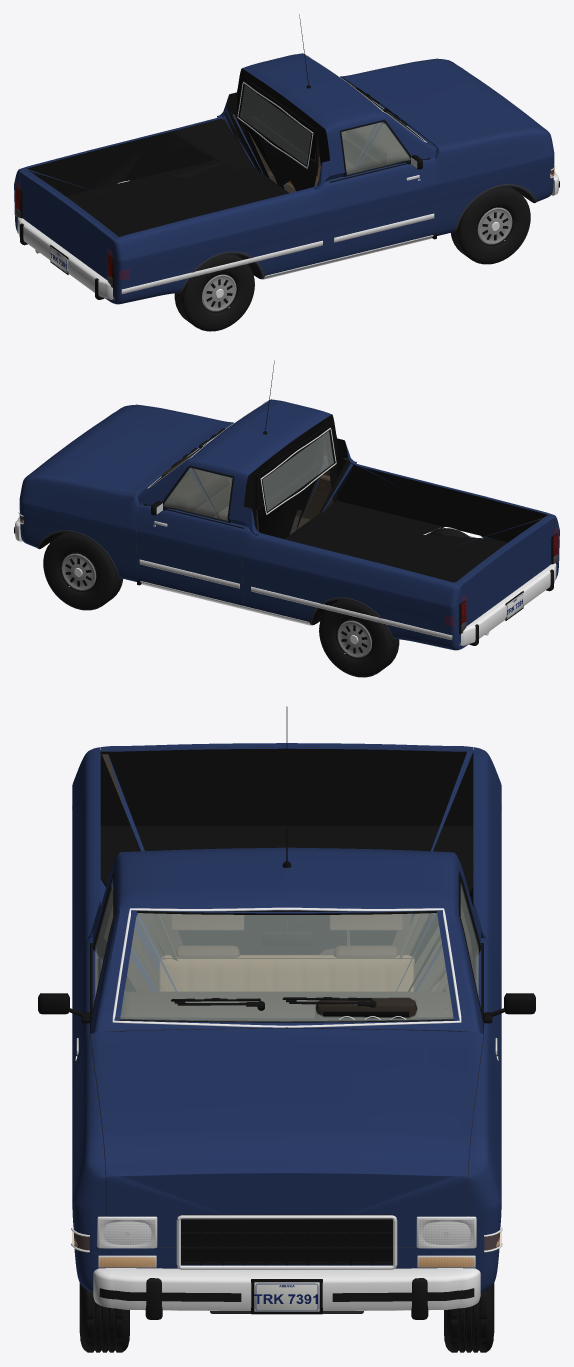
The model's file is pickup87.glb.
3 views of the same model, one above another, from view 1: azimuth 30°, elevation 25°; view 2: azimuth 150°, elevation 25°; view 3: azimuth 270°, elevation 25° (orthographic). The views are drawn at different scales.
Visible parts, largest first — view 1: Body, Hood, Tailgate, Wheel_FR_mesh, Wheel_RR_mesh, Glass, Glass_FR, Interior, Trim, Bumper_R, Trim_FR, Door_FR (+1 smaller); view 2: Body, Hood, Door_FL, Tailgate, Wheel_FL_mesh, Wheel_RL_mesh, Glass, Glass_FL, Trim, Interior, Bumper_R, Trim_FL (+1 smaller); view 3: Body, Hood, Glass, Interior, Ends, Bumper_F, Lamps_Head, Door_FL, Wheel_FR_mesh, Wheel_FL_mesh, Trim, Tailgate (+6 smaller).
Part boxes in pixels (x1,y1,x2,y2): Body: [14, 53, 554, 304]; Hood: [340, 60, 548, 152]; Tailgate: [19, 170, 116, 280]; Wheel_FR_mesh: [451, 186, 530, 264]; Wheel_RR_mesh: [174, 253, 254, 331]; Glass: [237, 54, 426, 168]; Glass_FR: [341, 122, 410, 176]; Interior: [287, 82, 407, 188]; Trim: [121, 14, 536, 293]; Bumper_R: [17, 217, 114, 299]; Trim_FR: [329, 119, 434, 263]; Door_FR: [326, 120, 437, 259]; Body: [19, 399, 559, 650]; Hood: [25, 406, 233, 498]; Door_FL: [136, 465, 248, 605]; Tailgate: [457, 516, 554, 626]; Wheel_FL_mesh: [43, 532, 122, 610]; Wheel_RL_mesh: [319, 599, 399, 677]; Glass: [147, 400, 336, 514]; Glass_FL: [163, 466, 233, 522]; Trim: [37, 360, 485, 639]; Interior: [161, 457, 232, 520]; Bumper_R: [459, 563, 556, 645]; Trim_FL: [139, 465, 244, 609]; Body: [72, 747, 501, 1292]; Hood: [90, 1028, 483, 1247]; Glass: [112, 907, 461, 1027]; Interior: [120, 914, 452, 1031]; Ends: [71, 1214, 502, 1314]; Bumper_F: [93, 1268, 480, 1319]; Lamps_Head: [100, 1221, 473, 1248]; Door_FL: [458, 871, 501, 1090]; Wheel_FR_mesh: [79, 1248, 129, 1352]; Wheel_FL_mesh: [444, 1283, 494, 1352]; Trim: [74, 706, 499, 1256]; Tailgate: [100, 743, 473, 749].
Bounding box in the file's own units: 4.96 × 2.56 × 2.33.
34 materials, 5 textured.
